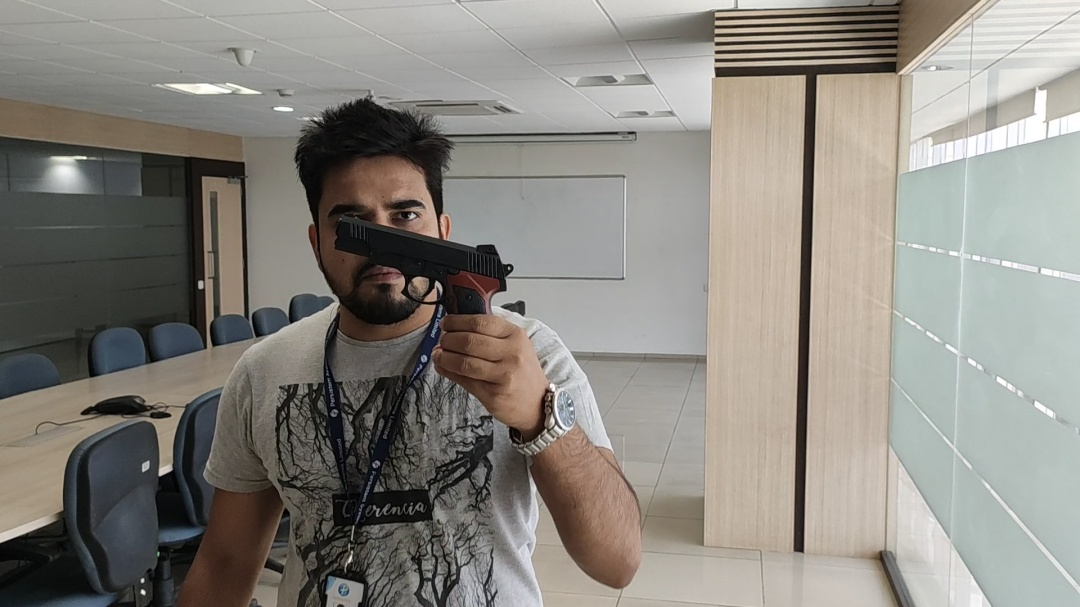gun: (166, 10, 958, 524)
